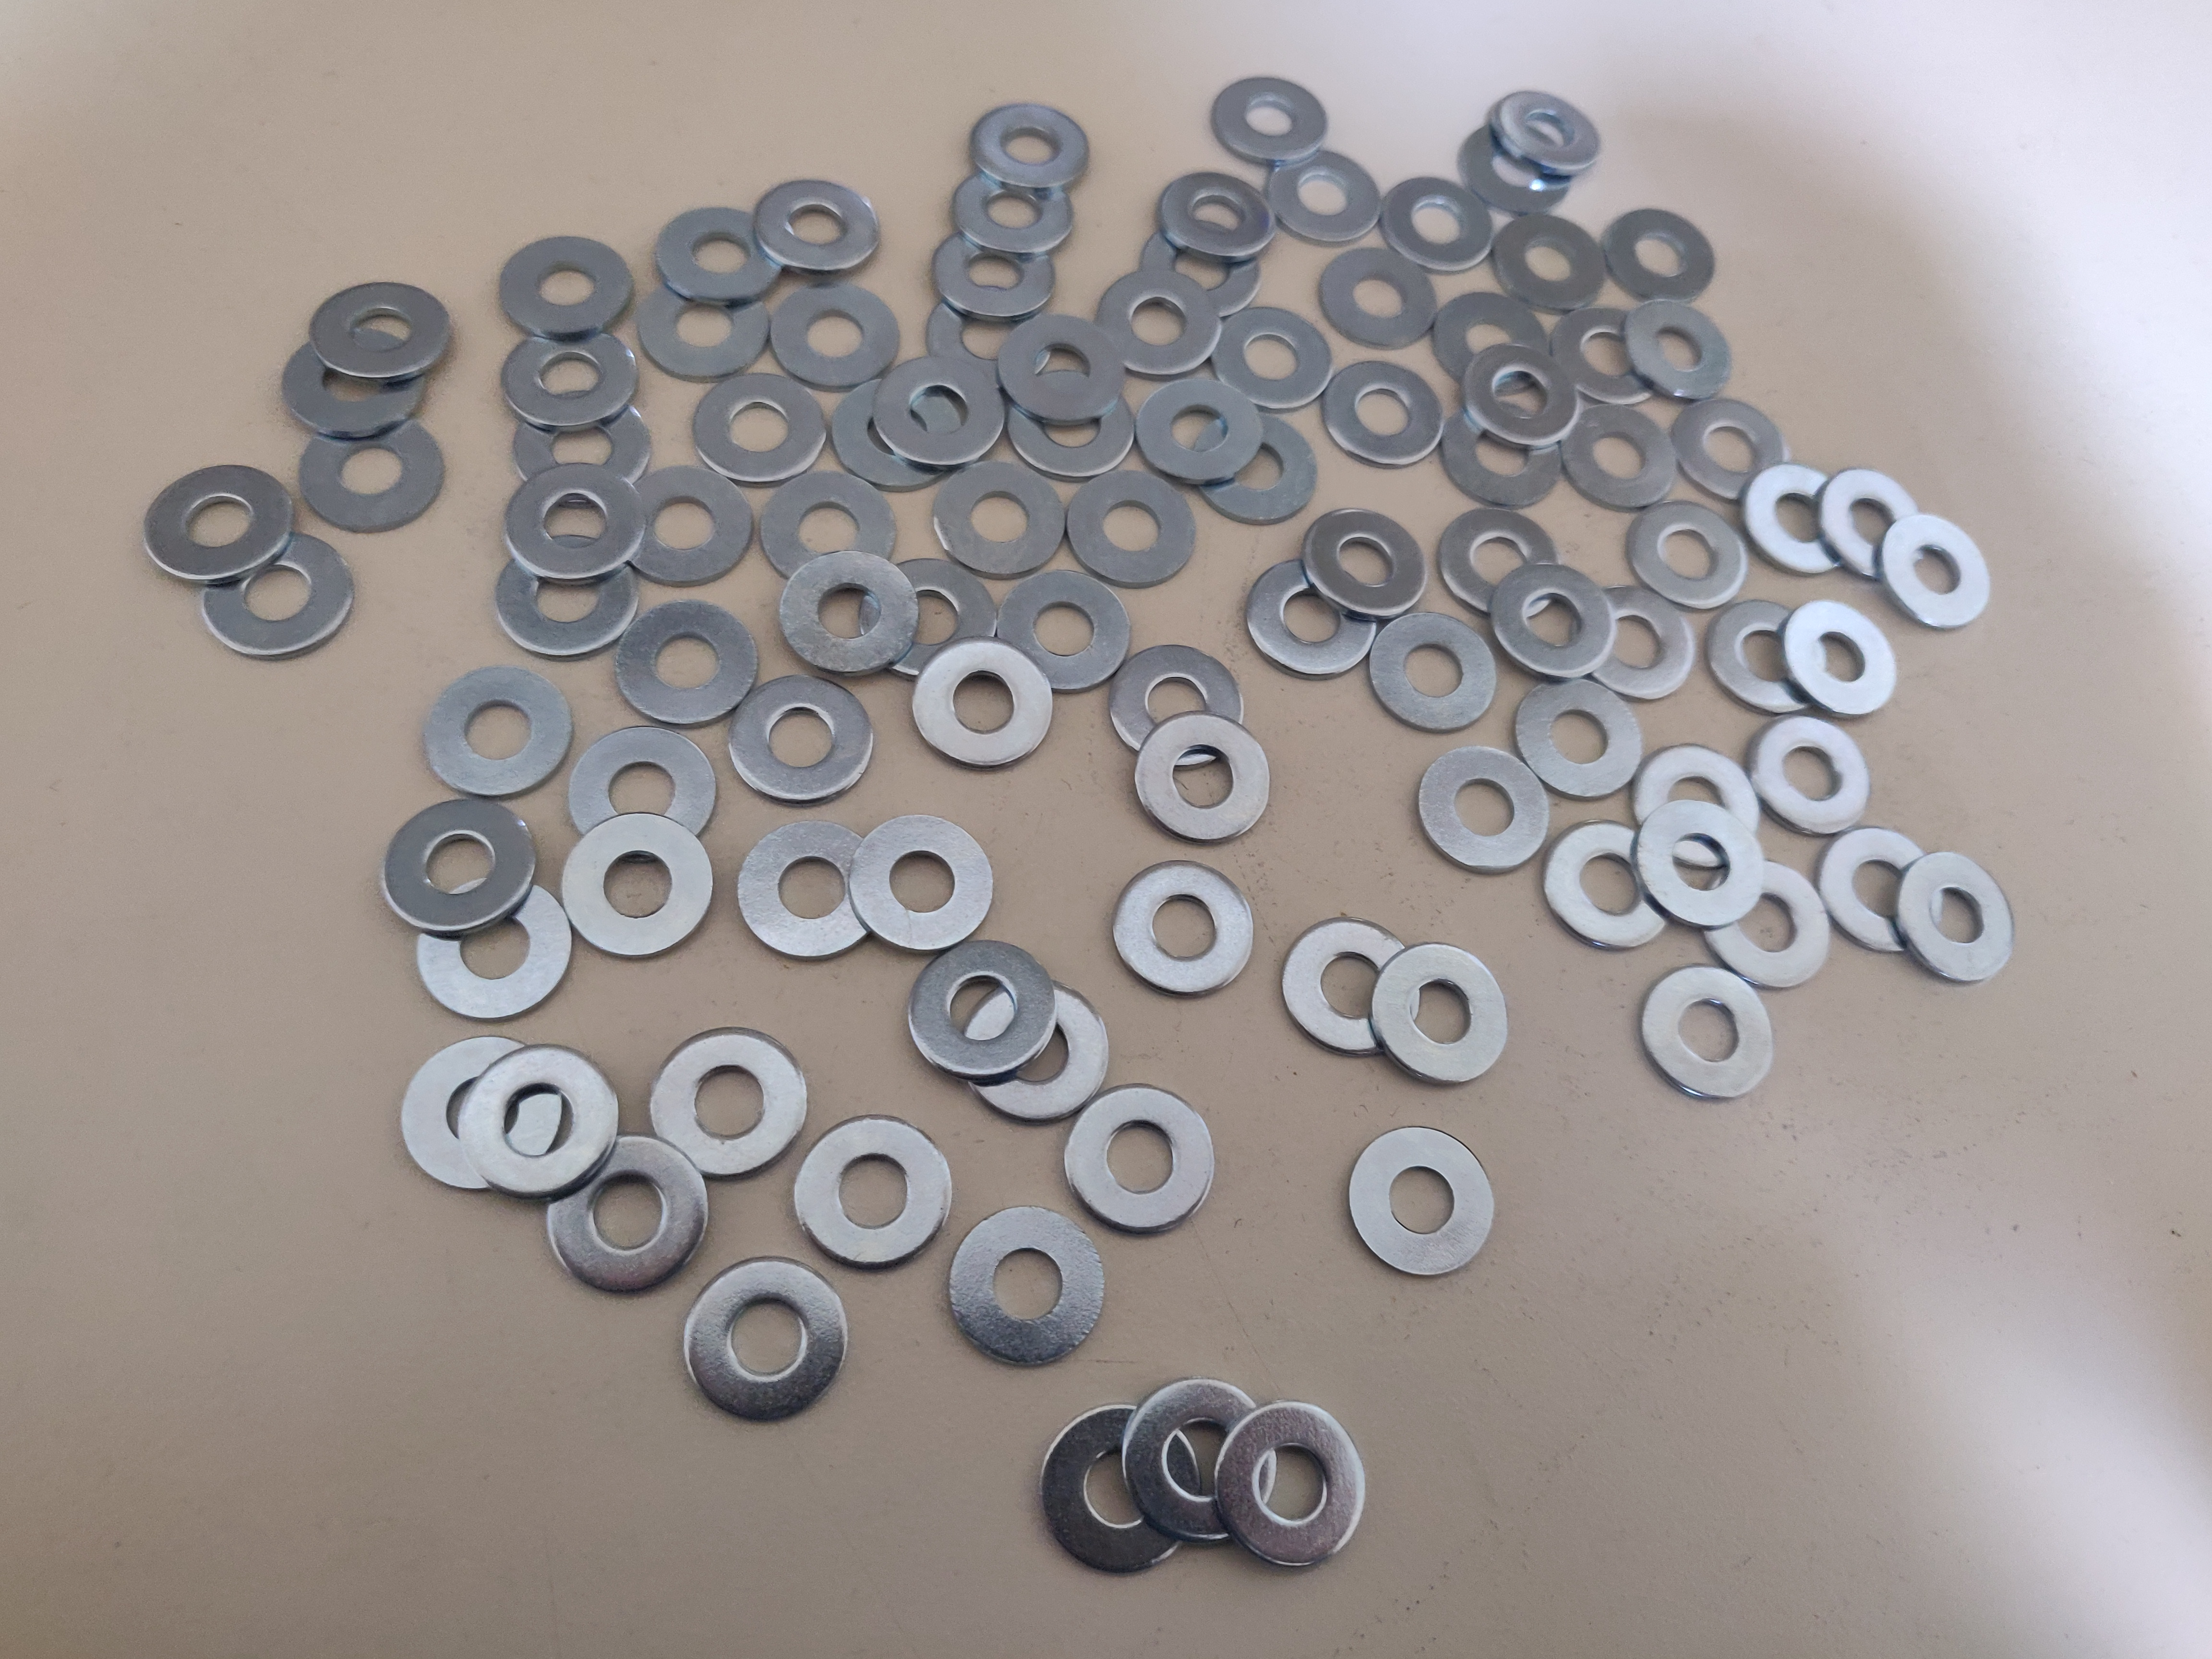circle: (683, 1255, 846, 1429), (644, 1014, 808, 1187), (944, 1201, 1106, 1375), (791, 1105, 953, 1279), (460, 1033, 622, 1208), (401, 1030, 563, 1204), (1122, 1370, 1280, 1547), (547, 1124, 709, 1297), (1035, 1401, 1193, 1577), (1212, 1396, 1369, 1572), (1066, 1077, 1221, 1237), (1345, 1122, 1500, 1283), (564, 713, 728, 861), (418, 652, 580, 800), (556, 814, 718, 962), (416, 875, 578, 1023), (378, 789, 542, 936), (1275, 908, 1426, 1056), (1367, 938, 1519, 1086), (1109, 850, 1258, 999), (726, 660, 874, 809), (495, 518, 643, 666), (909, 938, 1057, 1086), (967, 983, 1115, 1131), (272, 324, 432, 460), (848, 805, 995, 953), (737, 816, 883, 964), (615, 587, 761, 735), (197, 532, 357, 666), (286, 401, 446, 535), (1630, 789, 1775, 929), (1413, 739, 1557, 878), (1540, 812, 1674, 958), (1810, 819, 1944, 964), (1890, 843, 2024, 988), (136, 462, 294, 584), (1639, 964, 1771, 1108), (1703, 856, 1836, 1000), (498, 462, 655, 584), (601, 467, 758, 589), (1083, 261, 1240, 383), (679, 366, 834, 488), (759, 277, 914, 399), (914, 267, 1071, 387), (301, 270, 458, 389), (779, 549, 921, 678), (911, 640, 1054, 769), (1106, 641, 1249, 770), (1130, 714, 1273, 843), (489, 228, 644, 347), (634, 195, 789, 314), (737, 167, 892, 286), (995, 570, 1136, 699), (855, 552, 996, 681), (1508, 676, 1651, 798), (1625, 737, 1768, 859), (1745, 714, 1886, 836), (505, 397, 664, 502), (1369, 612, 1503, 734), (1062, 469, 1197, 591), (932, 460, 1066, 582), (763, 467, 897, 589), (876, 350, 1008, 472), (831, 371, 963, 493), (995, 303, 1127, 425), (1008, 362, 1141, 484), (1134, 366, 1266, 488), (1191, 406, 1324, 528), (1299, 502, 1432, 624), (1251, 554, 1383, 676), (1489, 558, 1618, 678), (1439, 505, 1568, 624), (1200, 303, 1331, 411), (1312, 242, 1442, 350), (1426, 289, 1557, 397), (1538, 295, 1669, 403), (1604, 295, 1735, 403), (1461, 343, 1592, 451), (1318, 357, 1449, 465), (1440, 403, 1571, 511), (1559, 403, 1689, 511), (1670, 394, 1801, 502), (1451, 113, 1585, 218), (935, 218, 1069, 322), (1625, 497, 1747, 612), (1784, 601, 1905, 716), (1578, 580, 1700, 695), (963, 94, 1096, 199), (942, 153, 1075, 258), (1205, 58, 1338, 162), (1484, 73, 1616, 178), (1258, 143, 1390, 247), (1148, 159, 1280, 263), (1374, 167, 1507, 272), (1594, 200, 1726, 305), (1137, 211, 1270, 315), (641, 275, 773, 380), (502, 326, 634, 430), (1738, 460, 1858, 575), (1878, 512, 1998, 627), (1709, 599, 1829, 714), (1486, 207, 1620, 310), (1808, 465, 1925, 575)
